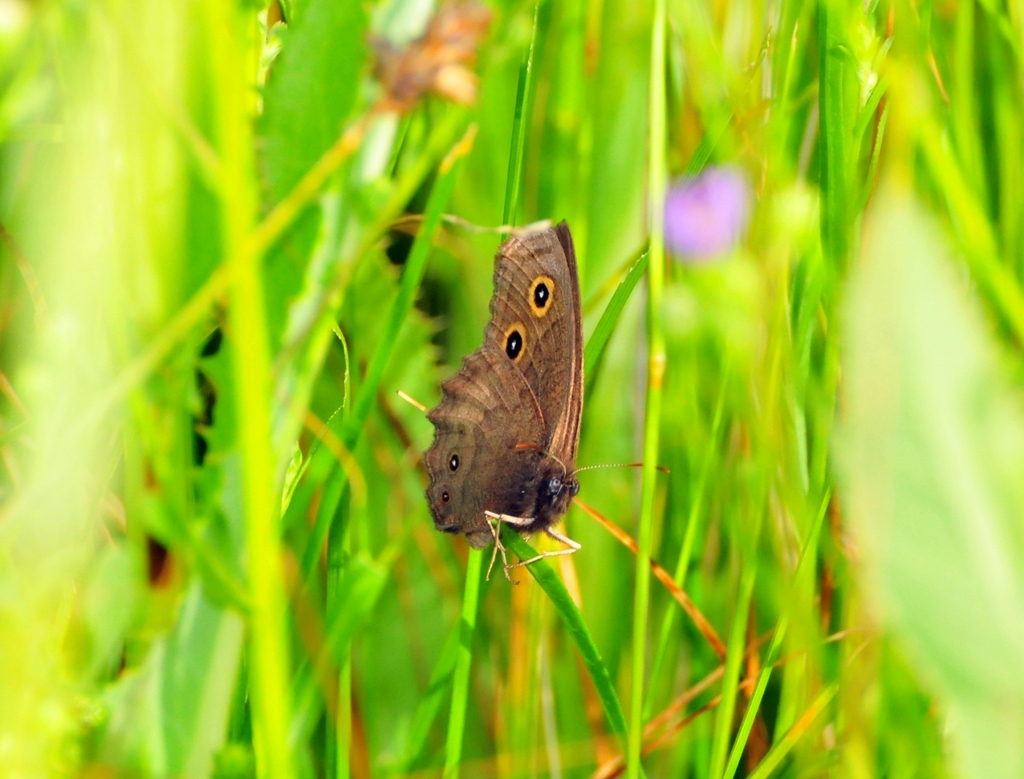Butterfly: (381, 206, 618, 586)
